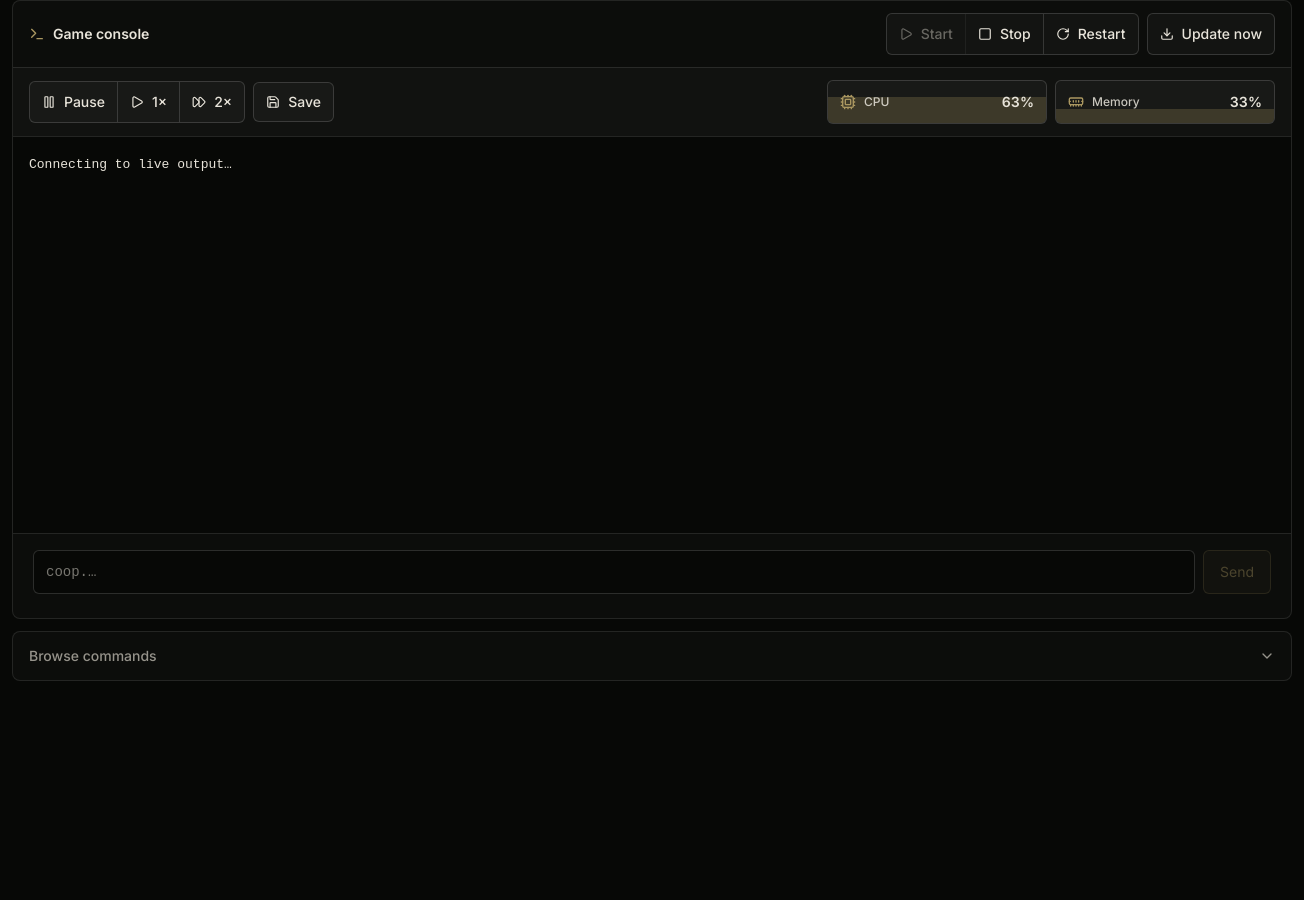
Test case: disables Stop and Restart while the Save button's save runs and re-enables them with its result
The width and height of the screenshot is (1304, 900).
Step 1. Click the button "Save" → (294, 102), box [253,82,334,122]
Wait 2000 ms
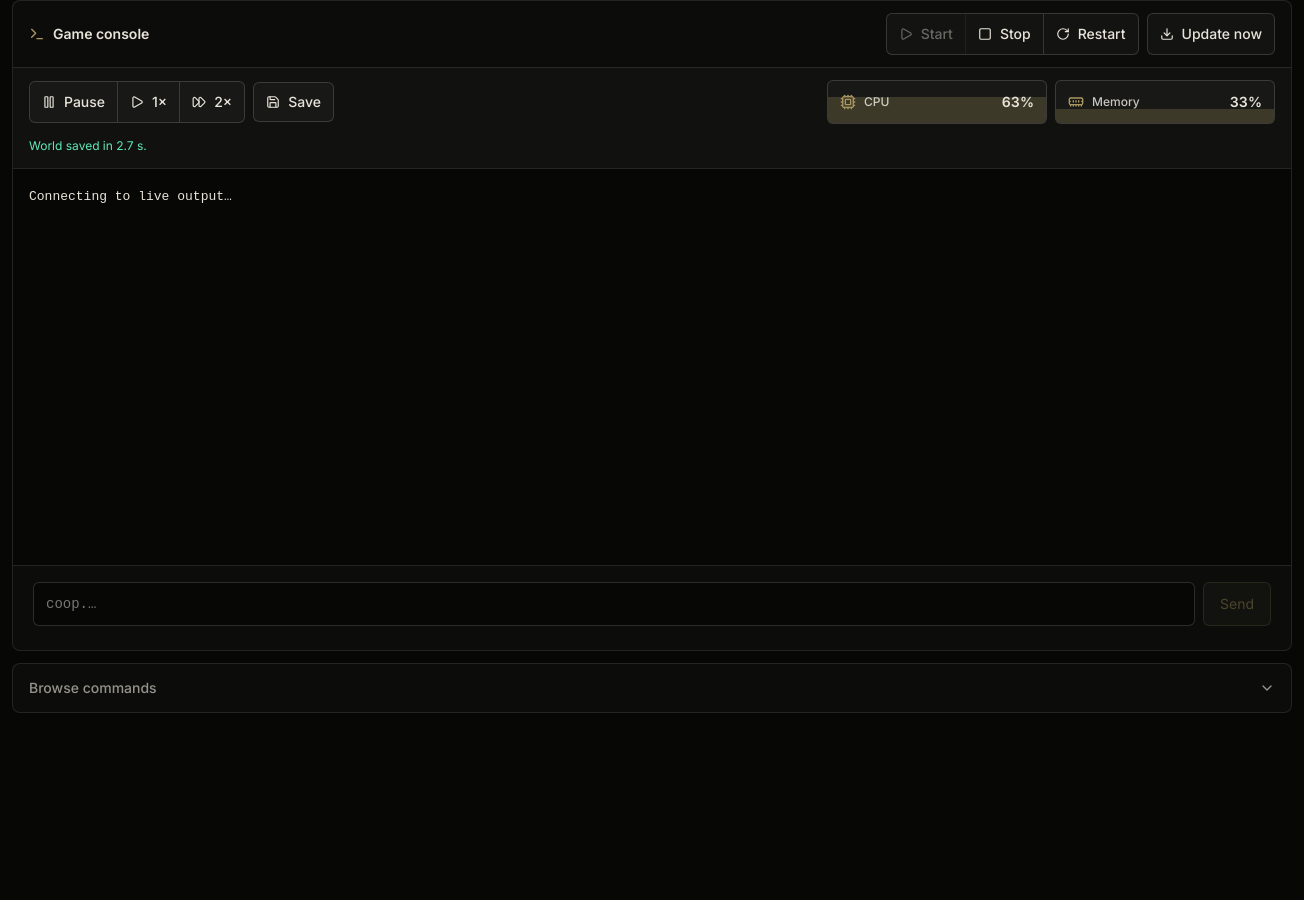
Now the text "World saved in 2.7 s." is shown, box [29,136,147,156]
